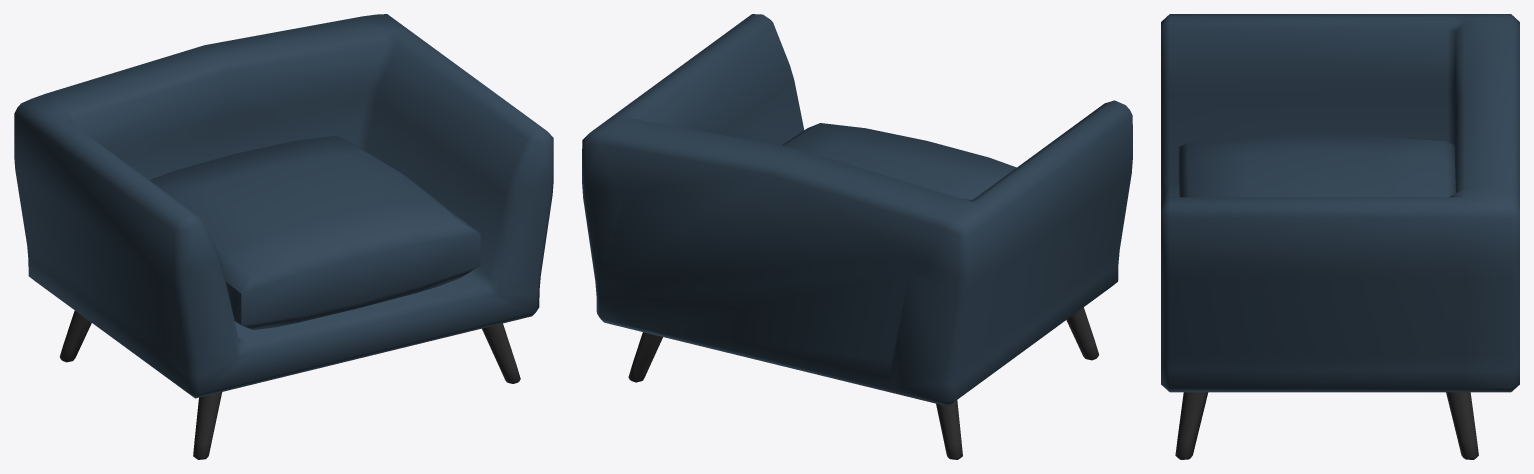
Rendered from couch-small-quaternius.glb.
3 views of the same model, side by side, from view 1: azimuth 30°, elevation 25°; view 2: azimuth 150°, elevation 25°; view 3: azimuth 270°, elevation 25° (orthographic). The views are drawn at different scales.
Parts seen in each view (by area): view 1: Couch_Small1; view 2: Couch_Small1; view 3: Couch_Small1.
Boxes of the visible parts, x1=… form: Couch_Small1: x1=14, y1=14, x2=553, y2=459; Couch_Small1: x1=582, y1=14, x2=1132, y2=459; Couch_Small1: x1=1161, y1=14, x2=1519, y2=459.
Bounding box in the file's own units: 2.89 × 1.91 × 2.2.
